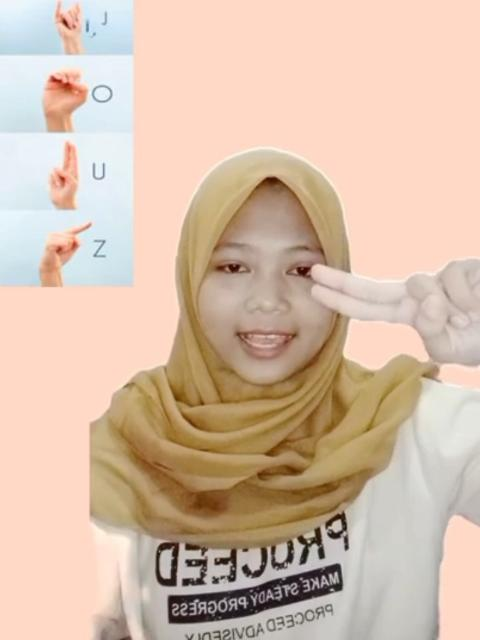H: (308, 258, 480, 366)
